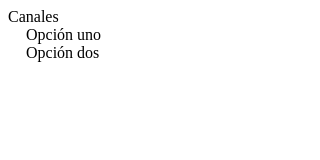
ChoiceGroup › checkbox: toggling accumulates an array of values
Later steps or results of the test are not shown.
Note: role-based name (excludes the aria-hidden check icon, unlike getByLabelText)
Click the checkbox labelled "Opción uno" at (64, 34), box top-left (26, 26), bottom-right (101, 43)
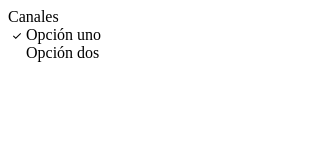
Click the checkbox labelled "Opción dos" at (63, 52), box top-left (26, 44), bottom-right (99, 61)
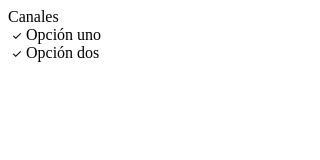
Result: the checkbox labelled "Opción uno" is checked at top-left (11, 26), bottom-right (101, 43)
Result: the checkbox labelled "Opción dos" is checked at top-left (11, 44), bottom-right (99, 61)
